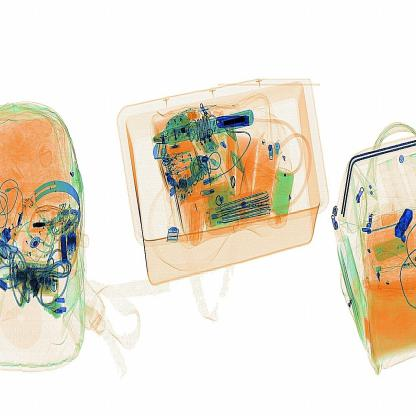knife: (208, 108, 260, 140)
